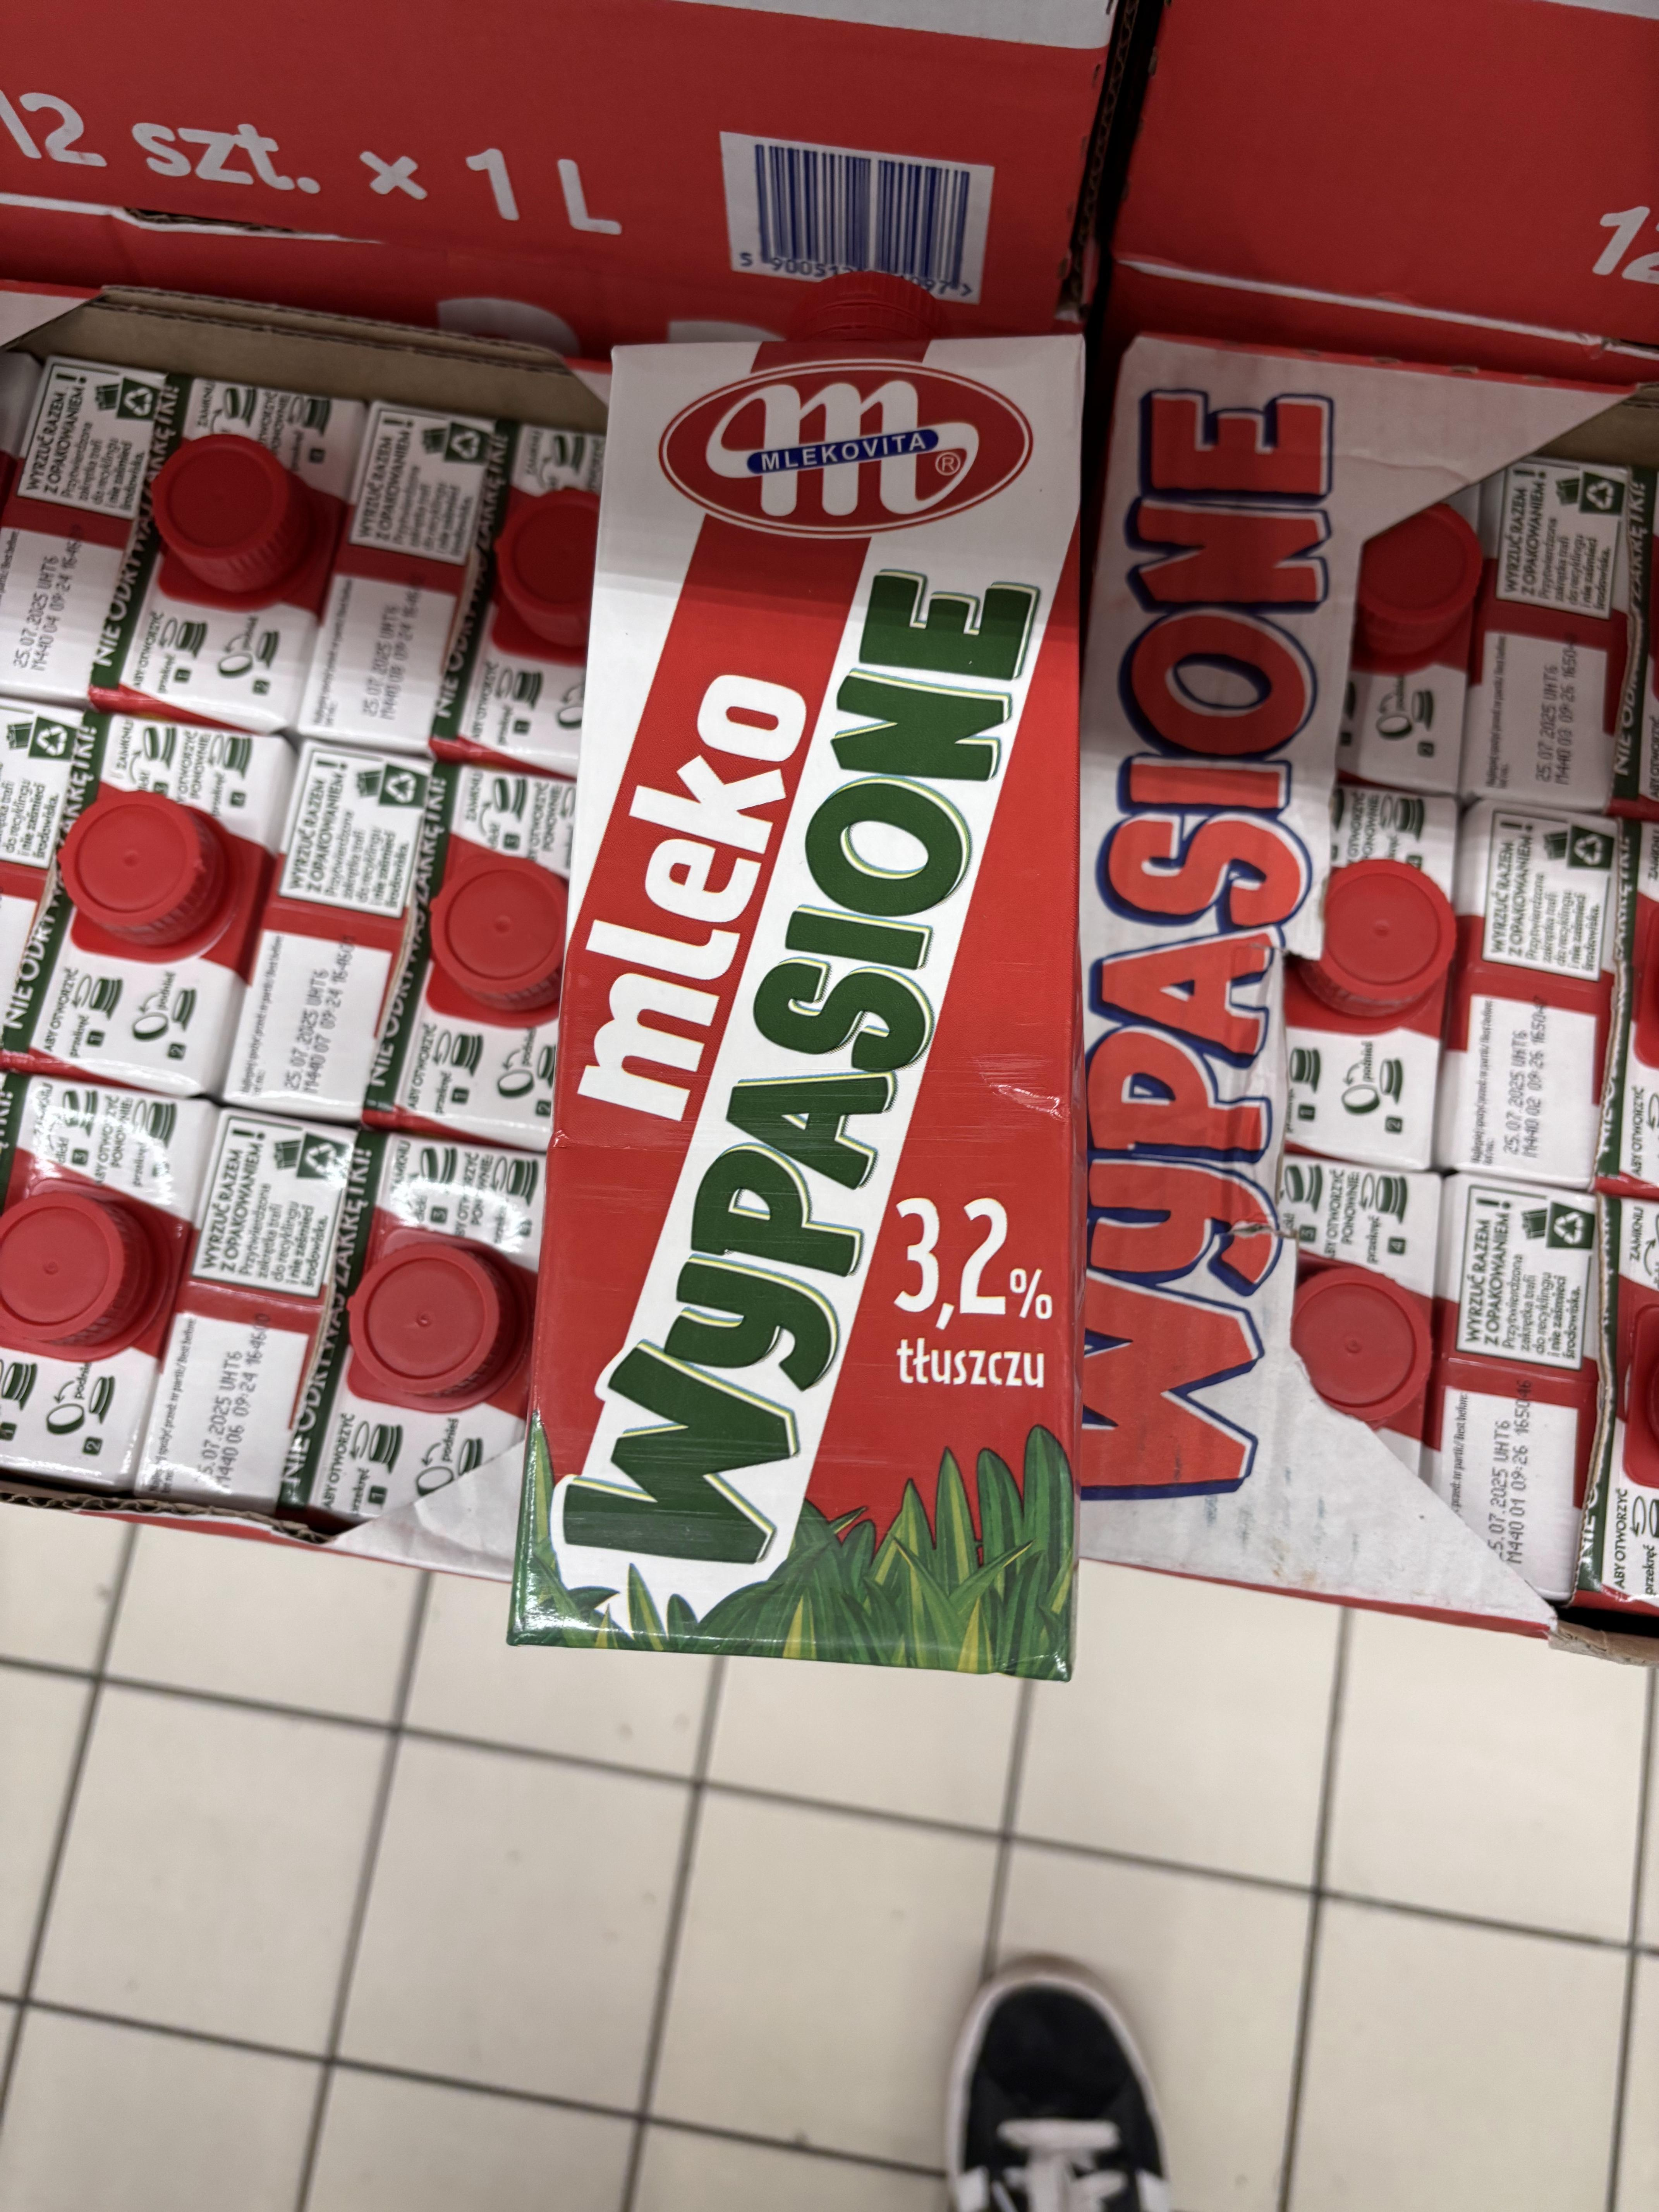Milk: (551, 348, 1121, 1634)
